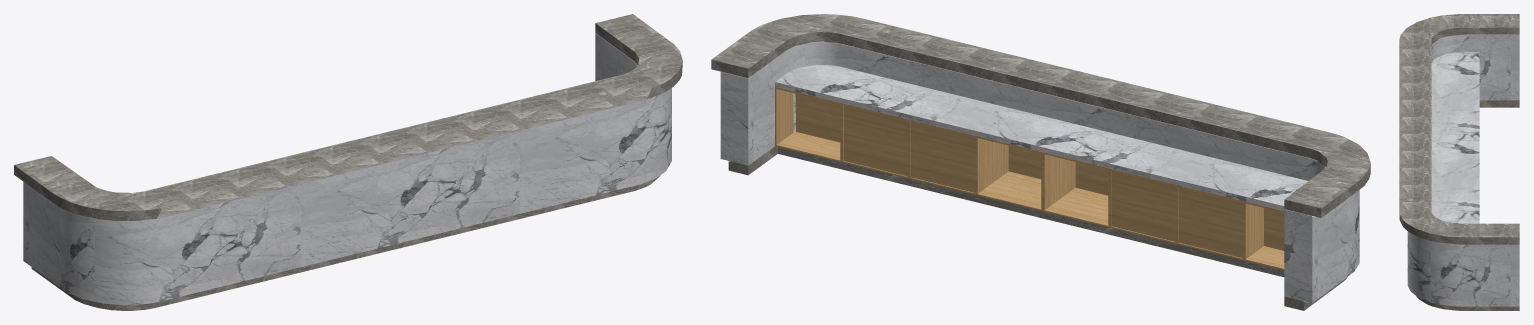
File: lobby-reception.glb
The picture shows the model from 3 angles, left to right: view 1: azimuth 30°, elevation 25°; view 2: azimuth 150°, elevation 25°; view 3: azimuth 270°, elevation 25°; orthographic projection. The views are drawn at different scales.
Parts seen in each view (by area): view 1: Reception_453, Reception_452, Reception_457; view 2: Reception_453, Reception_459, Reception_452, Reception_457; view 3: Reception_453, Reception_452, Reception_457.
Boxes of the visible parts, x1,y1,x2,y2 form: Reception_453: (23,33,671,305); Reception_452: (14,14,682,220); Reception_457: (31,175,660,310); Reception_453: (720,41,1359,302); Reception_459: (775,87,1284,270); Reception_452: (711,14,1370,217); Reception_457: (728,146,1347,310); Reception_453: (1407,34,1519,306); Reception_452: (1399,14,1519,244); Reception_457: (1416,100,1519,310).
Bounding box in the file's own units: 6.6 × 1.16 × 1.5.
6 materials, 4 textured.
